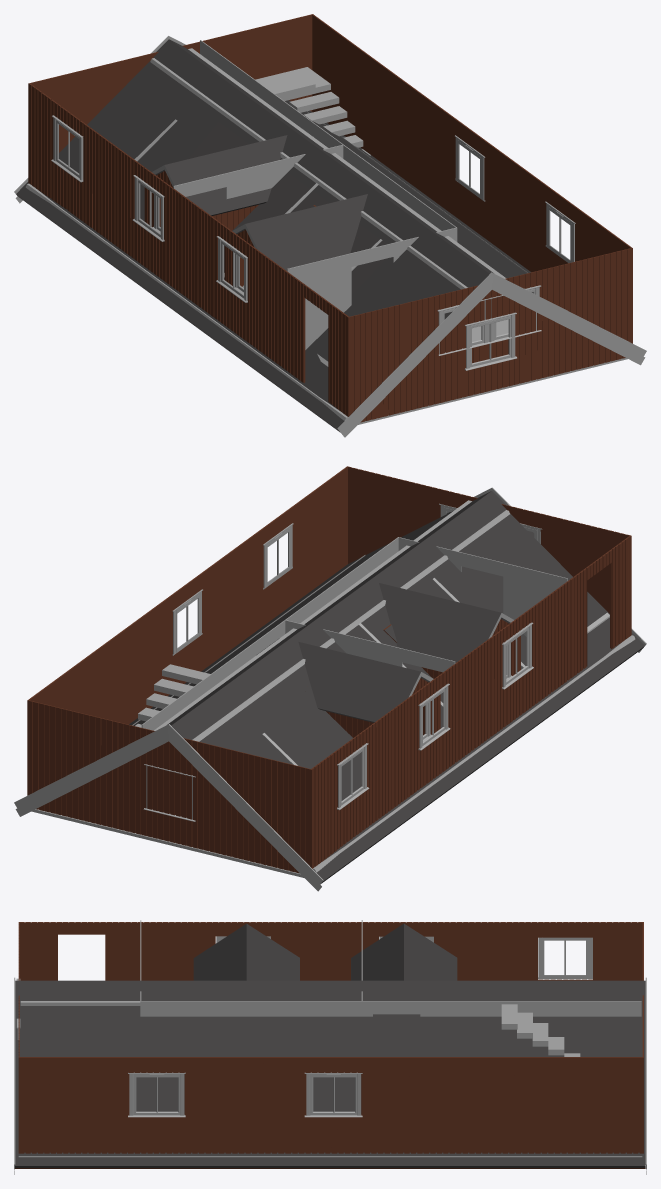
The model's file is ArcticBase.fbx.
3 views of the same model, one above another, from view 1: azimuth 30°, elevation 25°; view 2: azimuth 150°, elevation 25°; view 3: azimuth 270°, elevation 25° (orthographic). The views are drawn at different scales.
Visible parts, largest first — view 1: LowerFloor, Roof1, UpperFloor; view 2: LowerFloor, Roof1, UpperFloor; view 3: LowerFloor, Roof1, UpperFloor.
Part boxes in pixels (x1,y1,x2,y2): LowerFloor: (28, 14, 632, 424); Roof1: (14, 36, 646, 437); UpperFloor: (25, 48, 527, 420); LowerFloor: (27, 466, 631, 877); Roof1: (14, 487, 646, 891); UpperFloor: (132, 500, 635, 872); LowerFloor: (16, 920, 643, 1153); Roof1: (14, 923, 646, 1174); UpperFloor: (18, 1001, 642, 1157).
Size of the model in its own units: 22.15 by 8.98 by 40.2.
